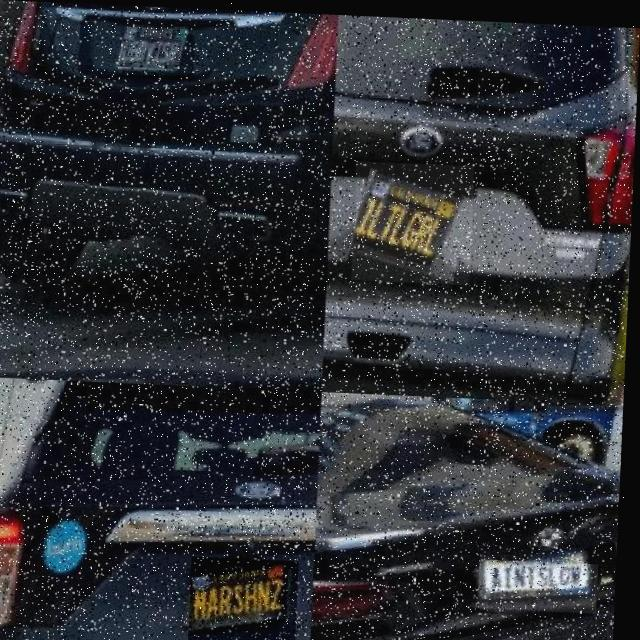LicensePlate: (354, 158, 476, 281), (195, 559, 303, 640), (484, 559, 602, 604), (123, 31, 195, 79)
